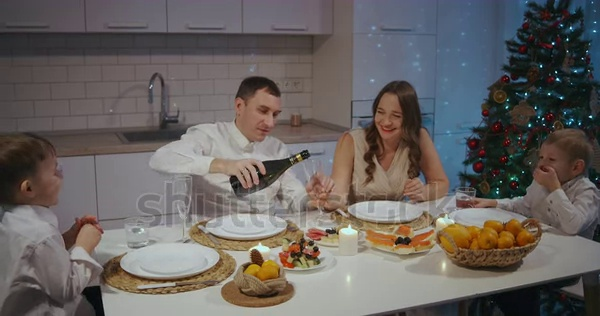No Mask: (6, 134, 79, 207), (523, 130, 594, 187), (234, 76, 285, 145), (364, 87, 418, 141)
